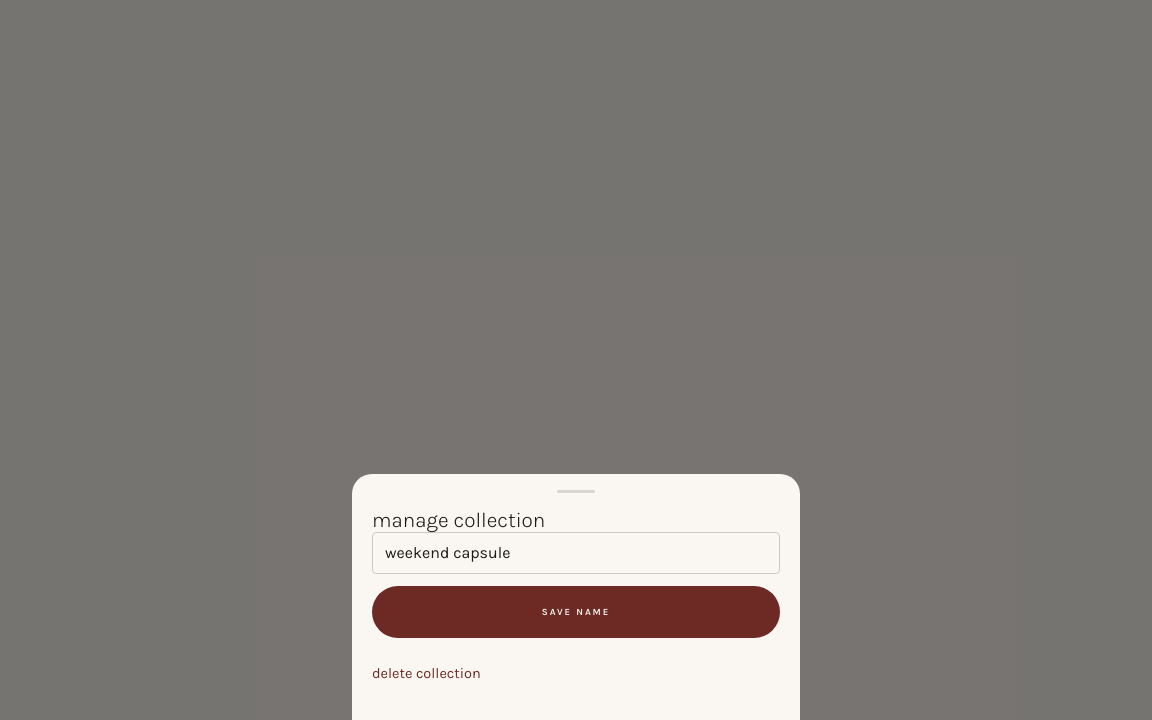
Scenario: ManageCollectionSheet › keeps the sheet open and shows the error when deletion fails
Click the button "delete collection". click: (426, 674)
box: [372,650,780,698]
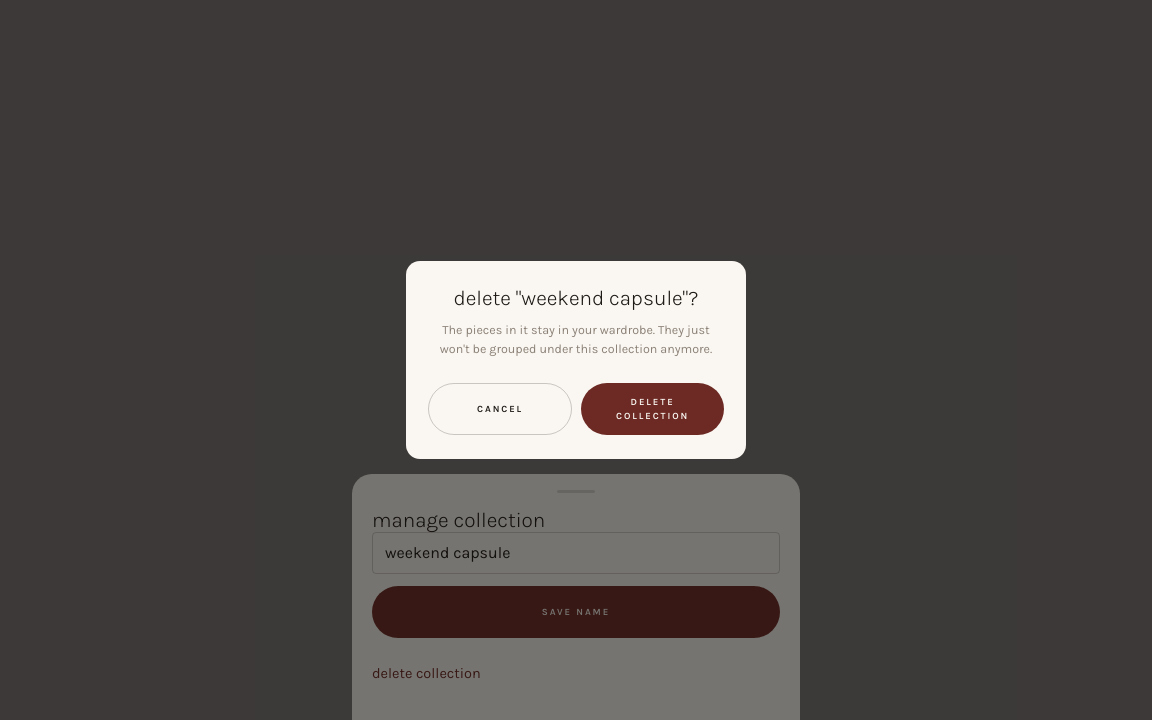
Click the button "delete collection". click: (653, 409)
box: [581,383,724,435]
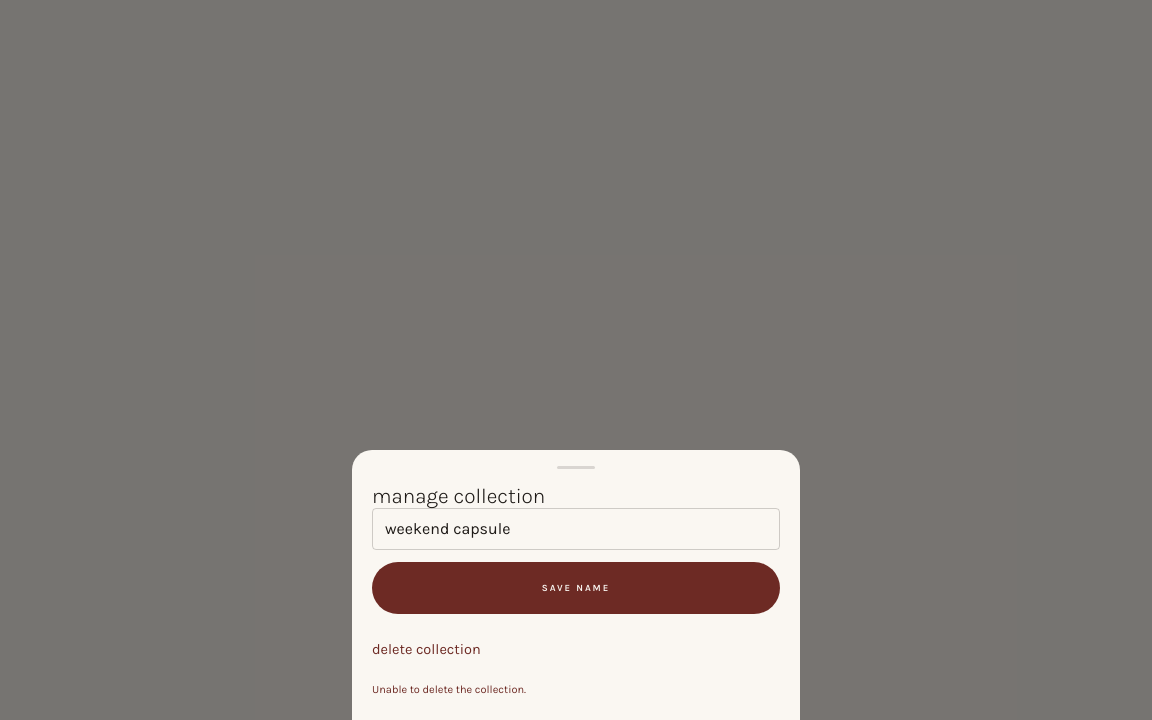
Now the text "Unable to delete the collection." is shown, box [372,682,526,696]
